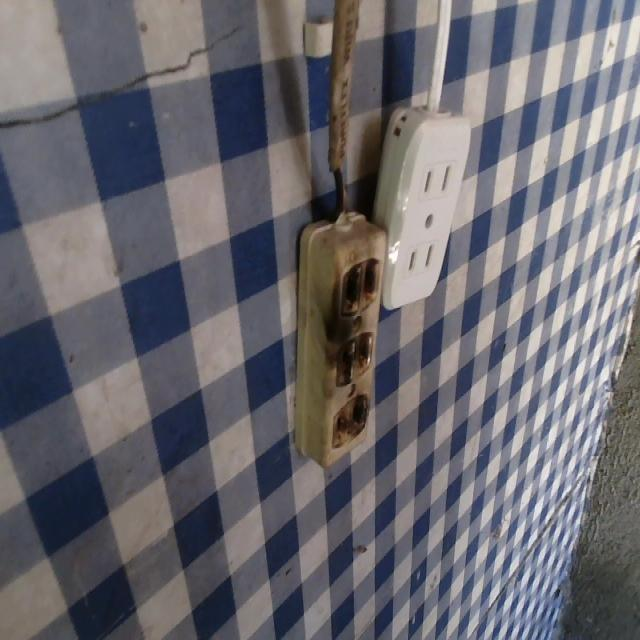-: (323, 396, 374, 451), (341, 254, 383, 318), (338, 335, 376, 389)
